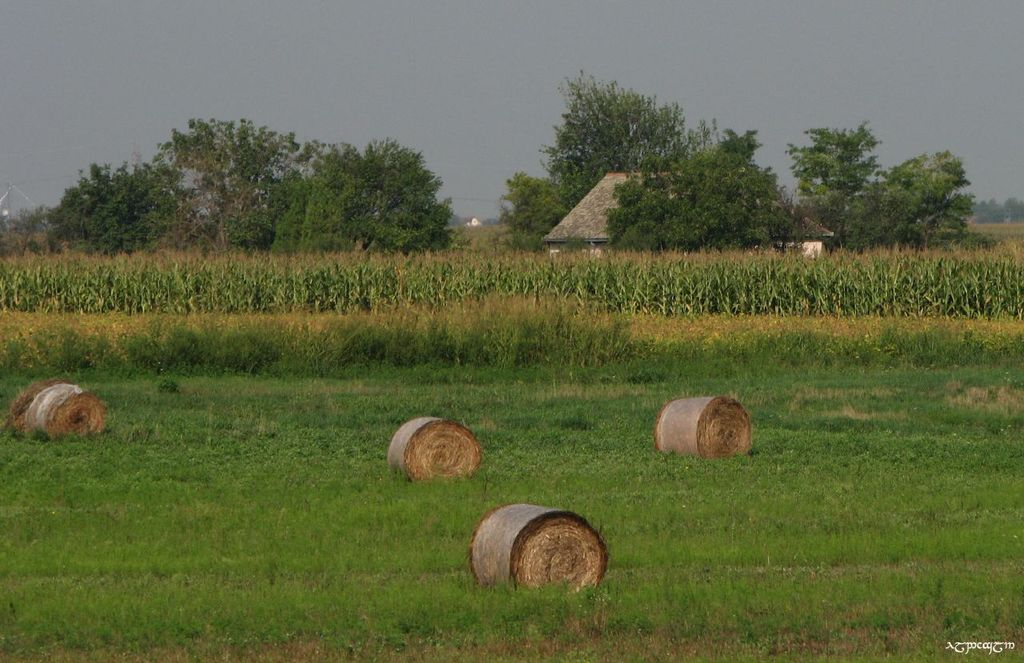Tree: (500, 68, 978, 245), (0, 117, 472, 256)
